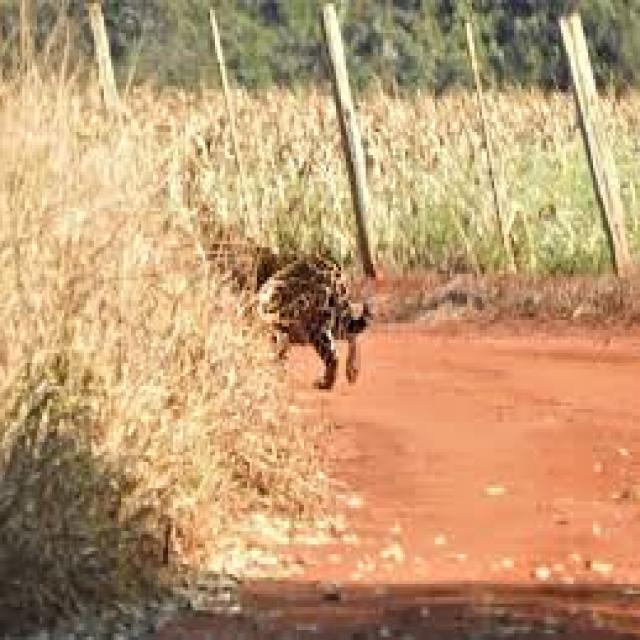Jaguar: (225, 244, 375, 396)
